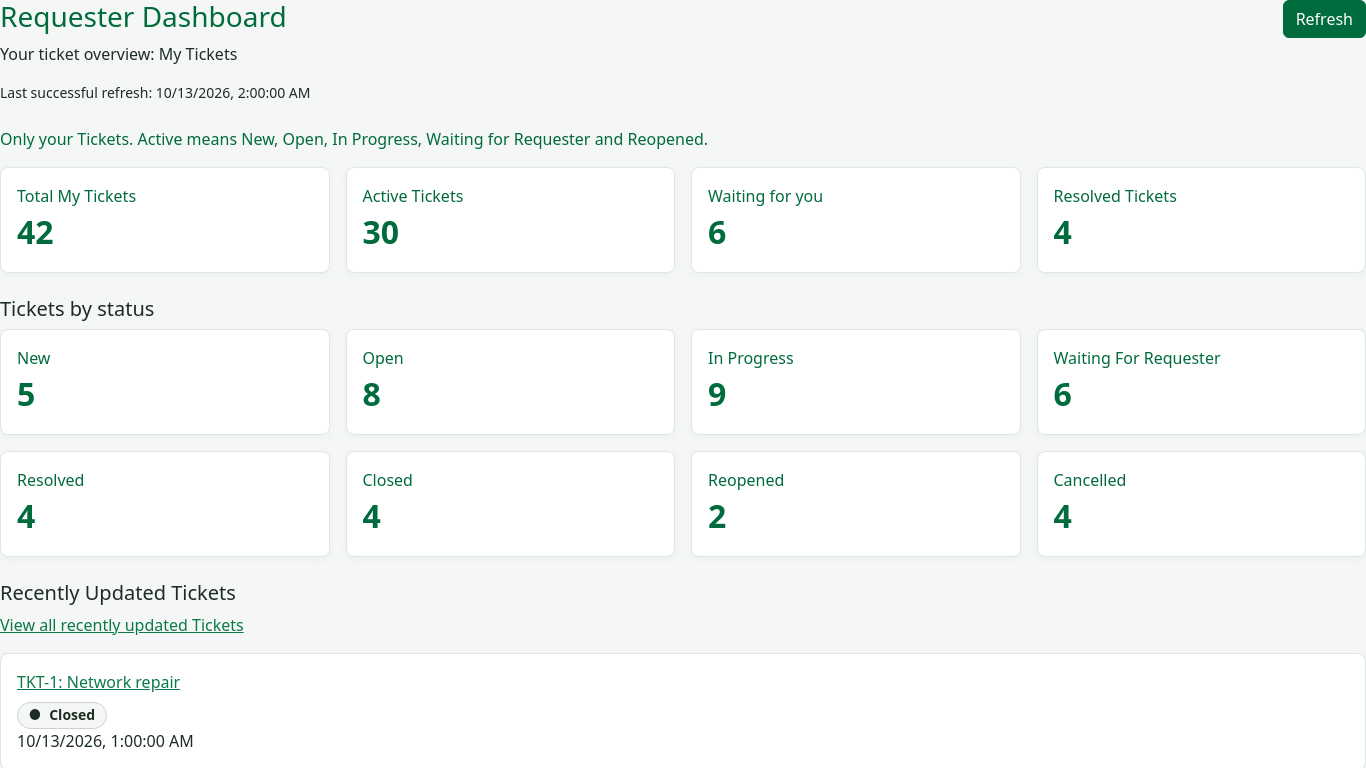
it: access loss 401 clears protected results and controls
The image size is (1366, 768).
Check: the link "Total My Tickets 42" is shown, box left=0, top=167, right=330, bottom=273
Click the button "Refresh". click: (1324, 19)
box: left=1283, top=0, right=1365, bottom=38
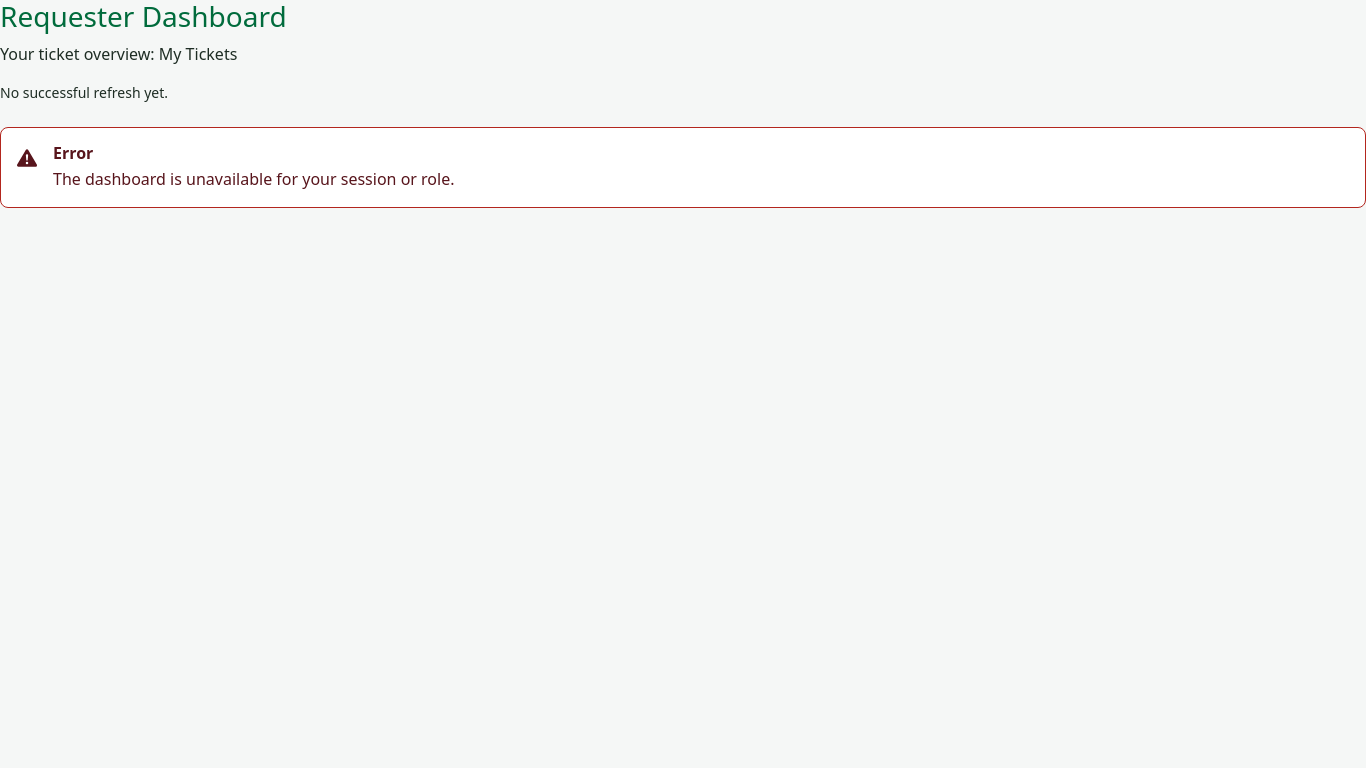
Check: the text "The dashboard is unavailable for your session or role." is shown, box left=53, top=168, right=454, bottom=190
Check: the link "Total My Tickets" is gone
